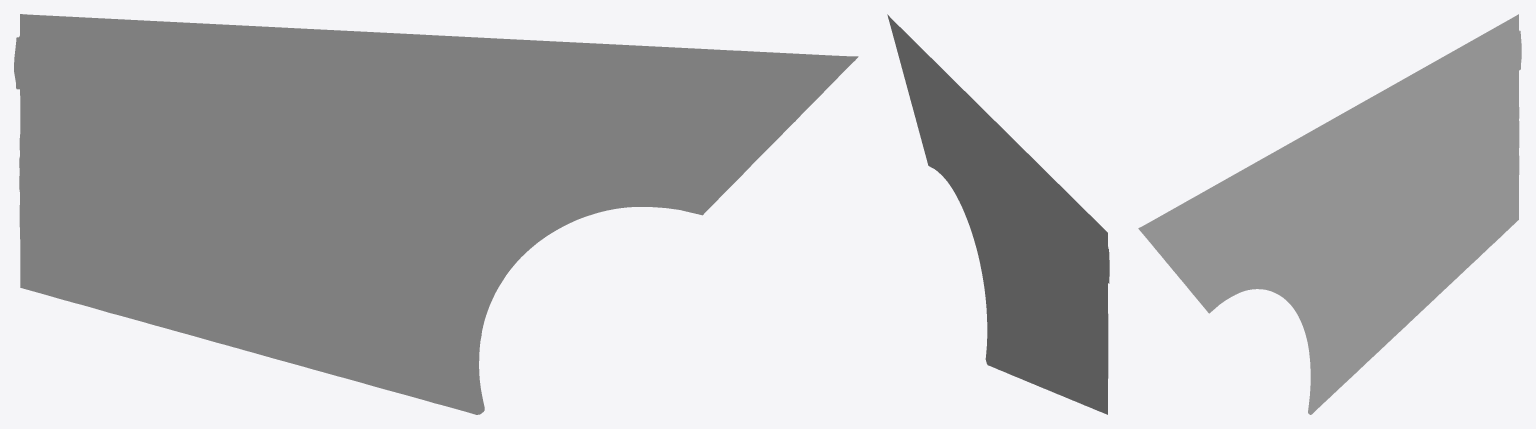
File: glases333final.glb
3 views of the same model, side by side, from view 1: azimuth 30°, elevation 25°; view 2: azimuth 150°, elevation 25°; view 3: azimuth 270°, elevation 25° (orthographic). The views are drawn at different scales.
Parts seen in each view (by area): view 1: tripo_node_70f3fce7-c7ce-46bd-ba2b-16e891bb9ca1; view 2: tripo_node_70f3fce7-c7ce-46bd-ba2b-16e891bb9ca1; view 3: tripo_node_70f3fce7-c7ce-46bd-ba2b-16e891bb9ca1.
Boxes of the visible parts, bbox=[...] form: tripo_node_70f3fce7-c7ce-46bd-ba2b-16e891bb9ca1: bbox=[14, 14, 858, 414]; tripo_node_70f3fce7-c7ce-46bd-ba2b-16e891bb9ca1: bbox=[887, 14, 1109, 414]; tripo_node_70f3fce7-c7ce-46bd-ba2b-16e891bb9ca1: bbox=[1138, 14, 1521, 414].
Size of the model in its own units: 0.79 by 0.4842 by 0.5925.
Materials: 1 (1 with a texture image).
